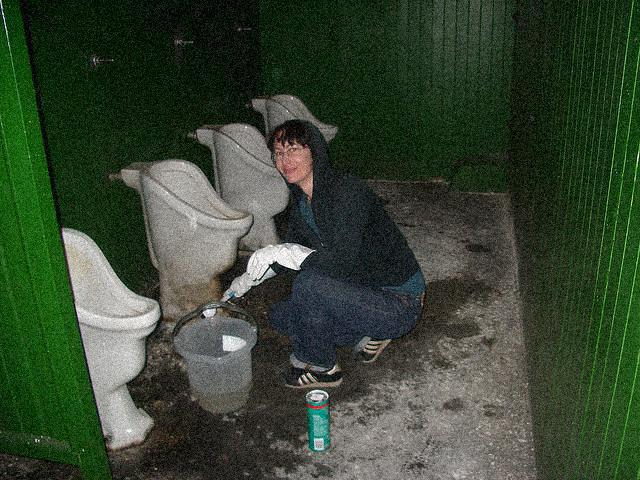Sanitario: (29, 217, 160, 457), (120, 149, 254, 320), (200, 115, 313, 261), (247, 89, 334, 200)
